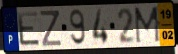2: (116, 7, 136, 45)
4: (91, 7, 111, 47)
9: (68, 8, 87, 47)
E: (16, 11, 42, 48)
M: (133, 5, 162, 45)
Z: (39, 10, 63, 48)
